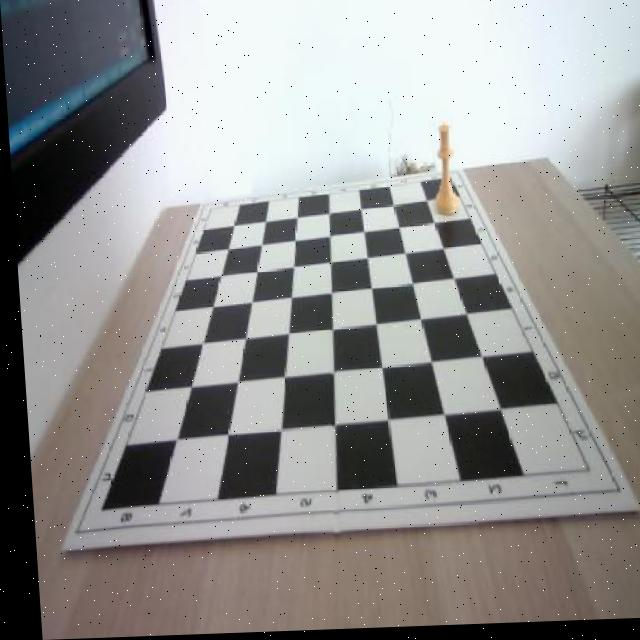white-pawn: (427, 125, 457, 218)
